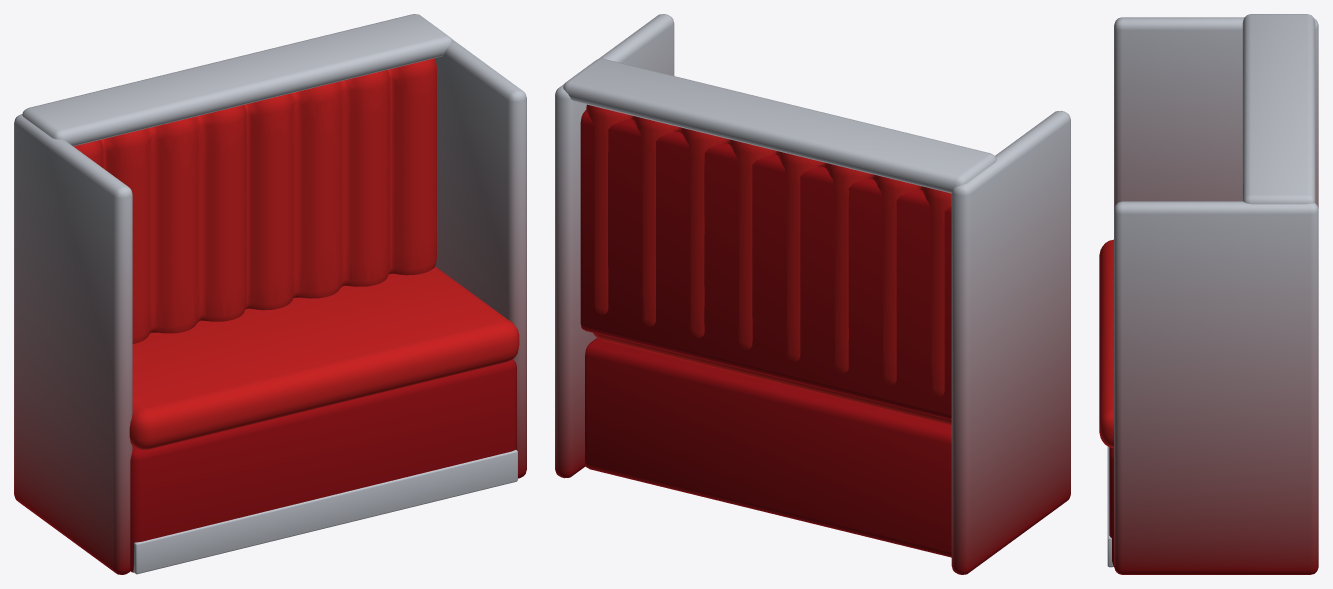
File: booth.glb
3 views of the same model, side by side, from view 1: azimuth 30°, elevation 25°; view 2: azimuth 150°, elevation 25°; view 3: azimuth 270°, elevation 25° (orthographic). The views are drawn at different scales.
Parts seen in each view (by area): view 1: booth; view 2: booth; view 3: booth.
Part boxes in pixels (box(x1,y1,x2,y2)): booth: box(14, 14, 526, 574); booth: box(555, 14, 1070, 574); booth: box(1099, 14, 1318, 574).
Size of the model in its own units: 1.38 by 1.26 by 0.665.
